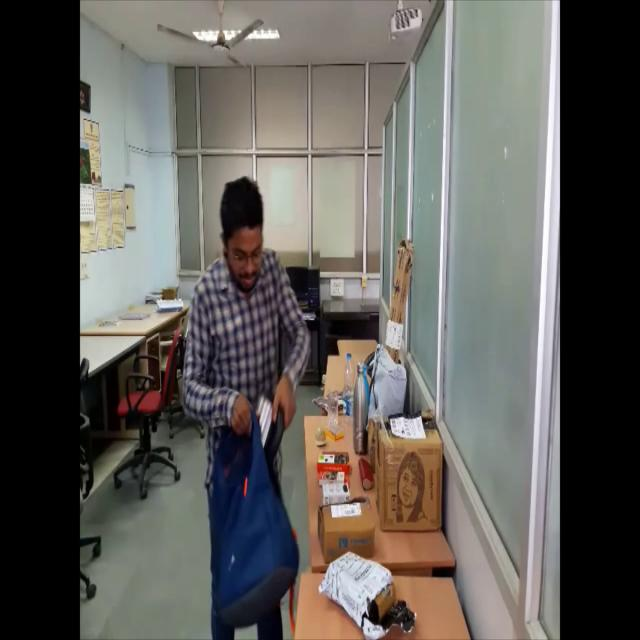shoplifting: (174, 169, 313, 640)
